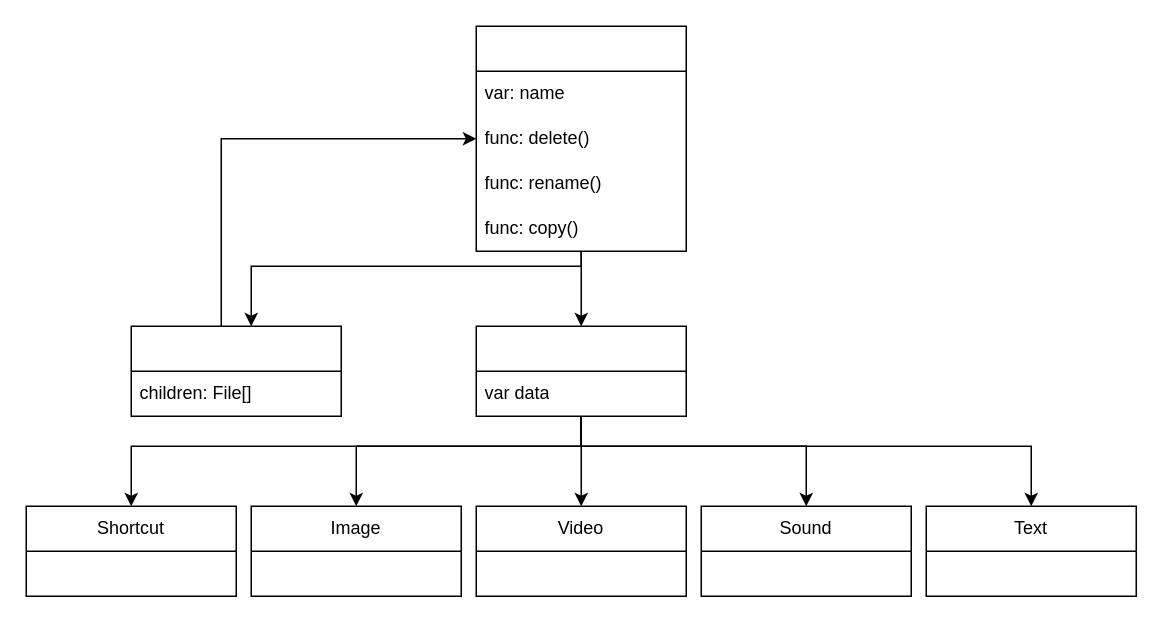
Image size: 1163x623. Some labels were removed from this diagram. The shapes that lost their labels are listed below. From the top down, each one's box as (x1, y1, x2, y2) in pixels, then its label:
(475, 25, 686, 251): File
(130, 325, 341, 416): Folder
(475, 325, 686, 416): MediaFile
